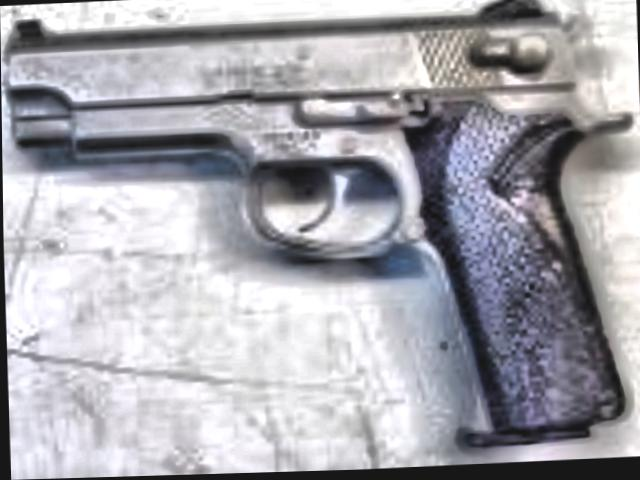pistol: (4, 0, 625, 461)
